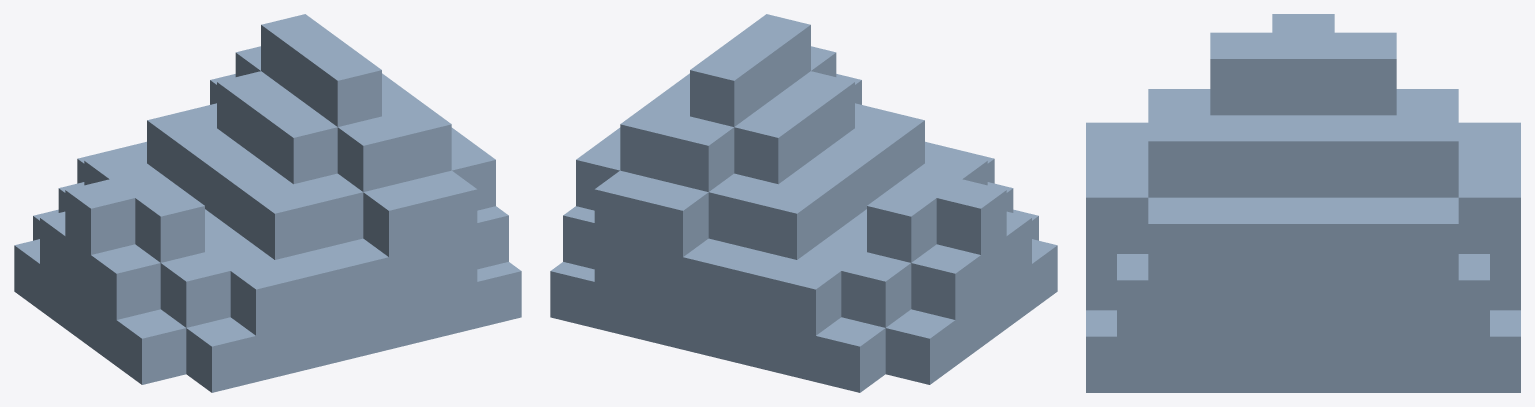
The model's file is stone-01.obj.
The picture shows the model from 3 angles, left to right: view 1: azimuth 30°, elevation 25°; view 2: azimuth 150°, elevation 25°; view 3: azimuth 270°, elevation 25°; orthographic projection. The views are drawn at different scales.
Bounding box in the file's own units: 8 × 5 × 7.
Materials: 1 (1 with a texture image).
